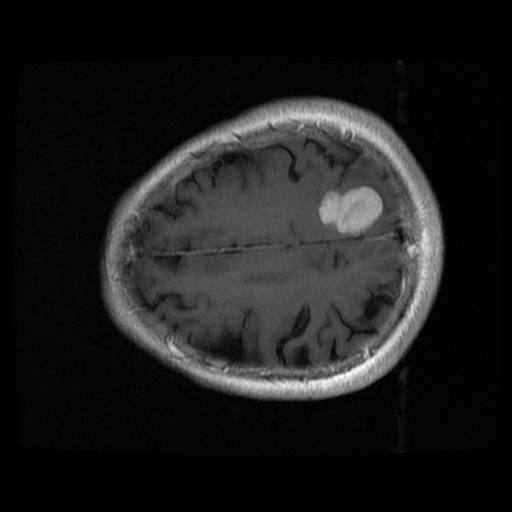meningioma: (317, 186, 382, 235)
